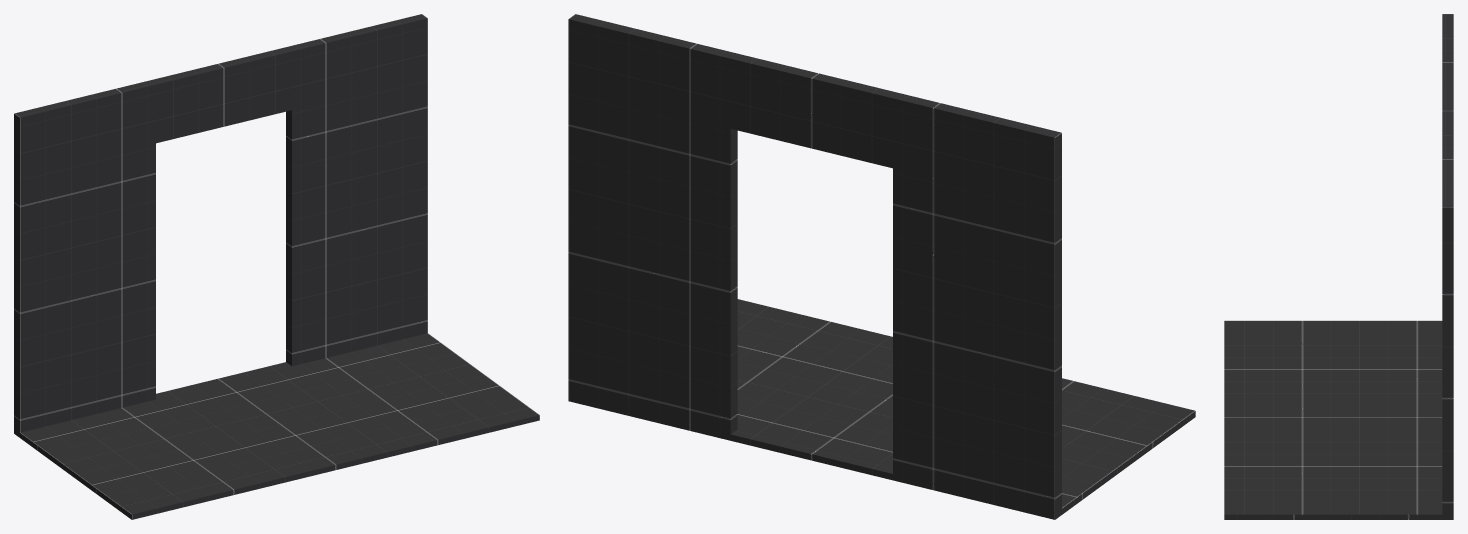
The model's file is doorway.glb.
The picture shows the model from 3 angles, left to right: view 1: azimuth 30°, elevation 25°; view 2: azimuth 150°, elevation 25°; view 3: azimuth 270°, elevation 25°; orthographic projection. The views are drawn at different scales.
Visible parts, largest first — view 1: doorway-col; view 2: doorway-col; view 3: doorway-col.
Part boxes in pixels (box(x1,y1,x2,y2)): doorway-col: box(14, 14, 539, 519); doorway-col: box(568, 14, 1195, 519); doorway-col: box(1224, 14, 1453, 519).
Bounding box in the file's own units: 4 × 3 × 2.
Materials: 1 (1 with a texture image).
